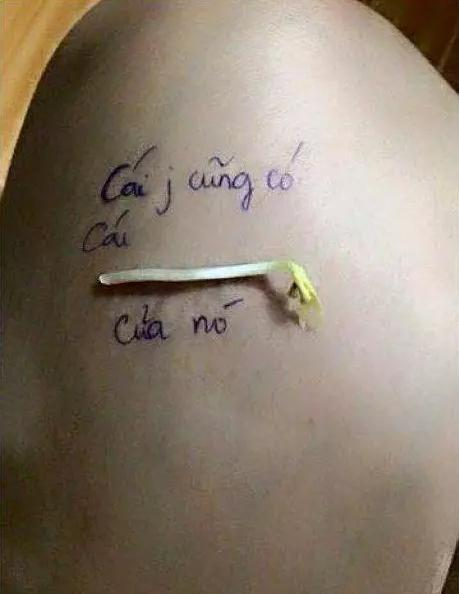text: (96, 137, 305, 220), (110, 292, 248, 351), (79, 207, 134, 260)
